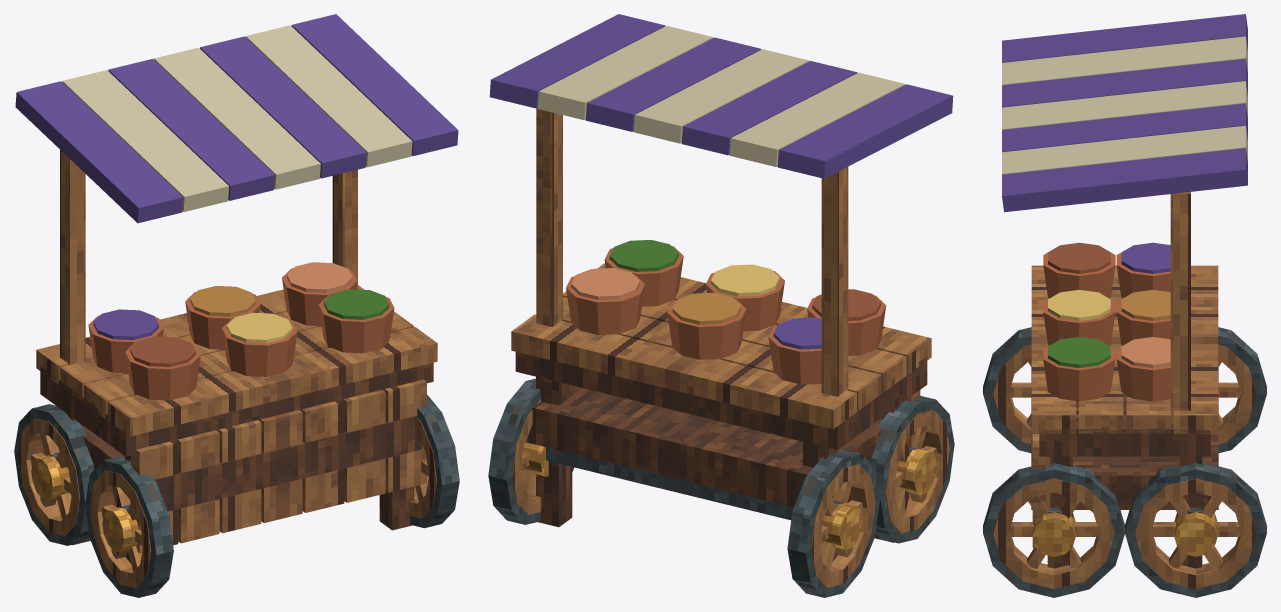
3 views of the same model, side by side, from view 1: azimuth 30°, elevation 25°; view 2: azimuth 150°, elevation 25°; view 3: azimuth 270°, elevation 25° (orthographic). The views are drawn at different scales.
Parts seen in each view (by area): view 1: body_cloth_plum, body_oak, body_oak_light, body_linen, body_wood_dark, body_clay, body_iron, body_brass, body_leaf, body_clay_light, body_rust, body_cheese (+1 smaller); view 2: body_wood_dark, body_cloth_plum, body_oak, body_oak_light, body_linen, body_iron, body_clay, body_brass, body_clay_light, body_leaf, body_bread, body_cheese (+1 smaller); view 3: body_cloth_plum, body_oak, body_linen, body_iron, body_oak_light, body_clay, body_wood_dark, body_brass, body_rust, body_leaf, body_cheese, body_clay_light (+1 smaller).
Boxes of the visible parts, <box> form: body_cloth_plum: <box>15,14,458,339</box>; body_oak: <box>18,150,436,588</box>; body_oak_light: <box>30,285,437,571</box>; body_linen: <box>62,25,412,211</box>; body_wood_dark: <box>40,362,433,563</box>; body_clay: <box>88,268,394,400</box>; body_iron: <box>14,394,459,597</box>; body_brass: <box>31,455,138,551</box>; body_leaf: <box>323,289,389,319</box>; body_clay_light: <box>287,262,352,292</box>; body_rust: <box>130,336,195,366</box>; body_cheese: <box>227,312,292,343</box>; body_wood_dark: <box>515,352,927,561</box>; body_cloth_plum: <box>489,14,953,349</box>; body_oak: <box>512,108,949,587</box>; body_oak_light: <box>511,263,937,569</box>; body_linen: <box>537,25,905,166</box>; body_iron: <box>488,378,954,597</box>; body_clay: <box>566,246,886,384</box>; body_brass: <box>523,442,936,549</box>; body_clay_light: <box>571,268,639,299</box>; body_leaf: <box>609,240,678,271</box>; body_bread: <box>672,292,741,324</box>; body_cheese: <box>711,264,779,296</box>; body_cloth_plum: <box>1002,14,1247,273</box>; body_oak: <box>993,192,1256,588</box>; body_linen: <box>1002,36,1247,174</box>; body_iron: <box>983,327,1266,597</box>; body_oak_light: <box>1009,265,1240,568</box>; body_clay: <box>1043,252,1170,402</box>; body_wood_dark: <box>1031,343,1218,568</box>; body_brass: <box>1032,512,1217,556</box>; body_rust: <box>1048,242,1110,273</box>; body_leaf: <box>1048,337,1110,367</box>; body_cheese: <box>1048,289,1110,320</box>; body_clay_light: <box>1121,337,1170,367</box>.
Bounding box in the file's own units: 1.45 × 1.88 × 1.12.
Materials: 13 (5 with a texture image).
